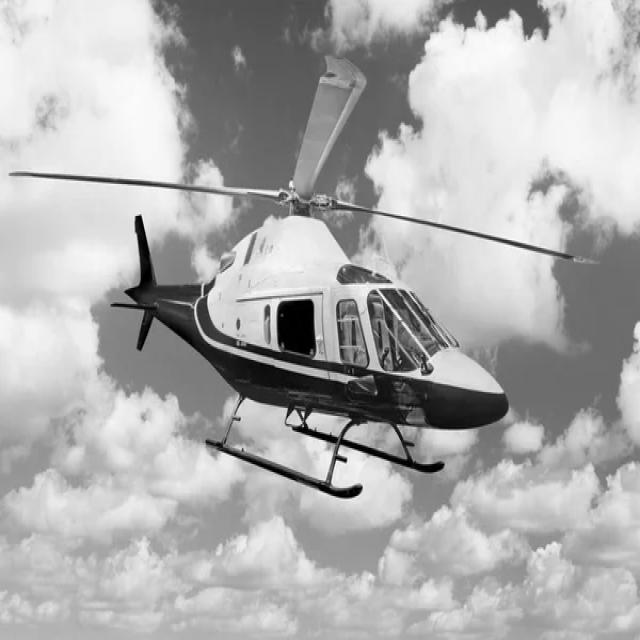Helicopter: (10, 54, 594, 498)
